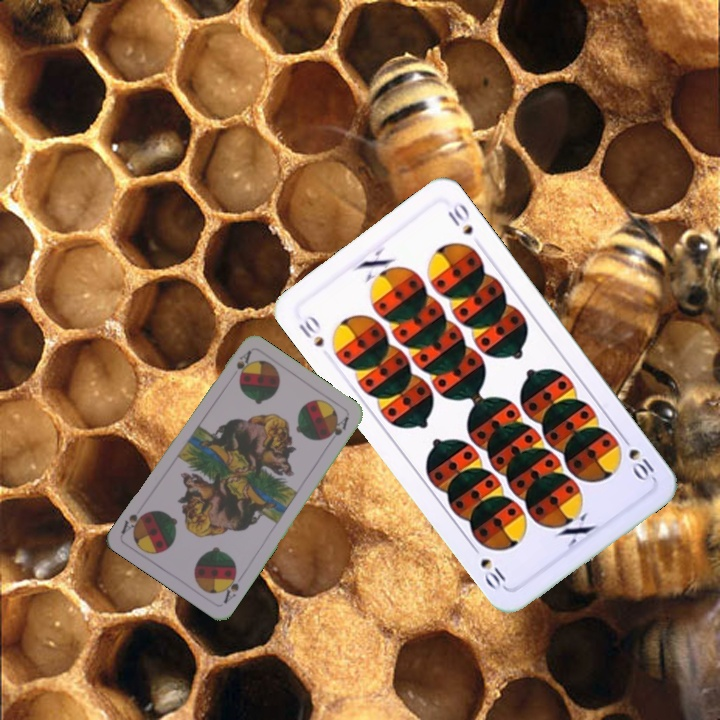S10: (617, 430, 657, 484), (294, 311, 327, 350)
SA: (218, 567, 246, 606), (232, 347, 254, 379)
